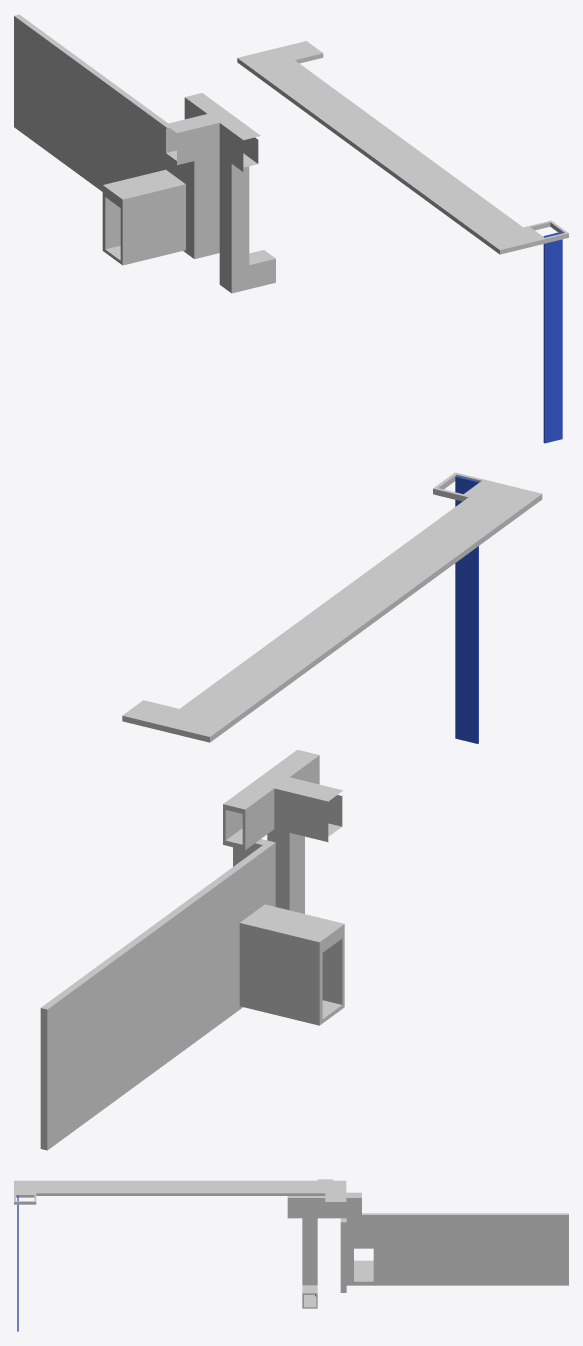
Rendered from test_level2_patch_1.gltf.
The picture shows the model from 3 angles, top to bottom: view 1: azimuth 30°, elevation 25°; view 2: azimuth 150°, elevation 25°; view 3: azimuth 270°, elevation 25°; orthographic projection. The views are drawn at different scales.
Visible parts, largest first — view 1: Cube.024, Cube, Cube.003, ladder 2; view 2: Cube.024, Cube, Cube.003, ladder 2; view 3: Cube.024, Cube, Cube.003, ladder 2.
Boxes of the visible parts, x1,y1,x2,y2 form: Cube.024: [14, 14, 219, 265]; Cube: [237, 41, 568, 254]; Cube.003: [165, 93, 275, 293]; ladder 2: [543, 231, 562, 443]; Cube.024: [40, 839, 344, 1150]; Cube: [122, 472, 542, 742]; Cube.003: [223, 749, 343, 913]; ladder 2: [455, 476, 479, 743]; Cube.024: [340, 1213, 568, 1292]; Cube: [14, 1180, 346, 1204]; Cube.003: [287, 1179, 361, 1308]; ladder 2: [17, 1195, 18, 1331].
Bounding box in the file's own units: 24.14 × 26.53 × 102.
